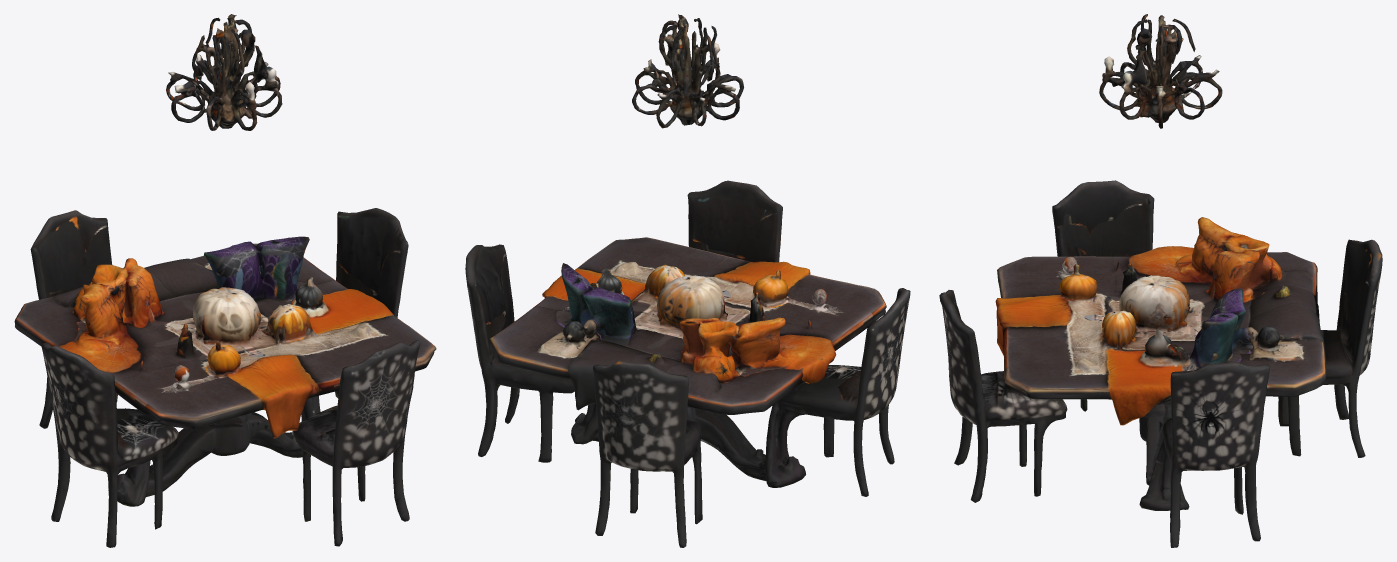
The model's file is Meshy_AI_halloween_themed_Sty_0518232516_texture.fbx.
3 views of the same model, side by side, from view 1: azimuth 30°, elevation 25°; view 2: azimuth 150°, elevation 25°; view 3: azimuth 270°, elevation 25° (orthographic). The views are drawn at different scales.
Visible parts, largest first — view 1: Mesh_0; view 2: Mesh_0; view 3: Mesh_0.
Boxes of the visible parts, x1=… form: Mesh_0: x1=14, y1=14, x2=436, y2=547; Mesh_0: x1=465, y1=14, x2=910, y2=547; Mesh_0: x1=939, y1=14, x2=1382, y2=547.
Size of the model in its own units: 175 by 195 by 174.
Materials: 1 (1 with a texture image).
